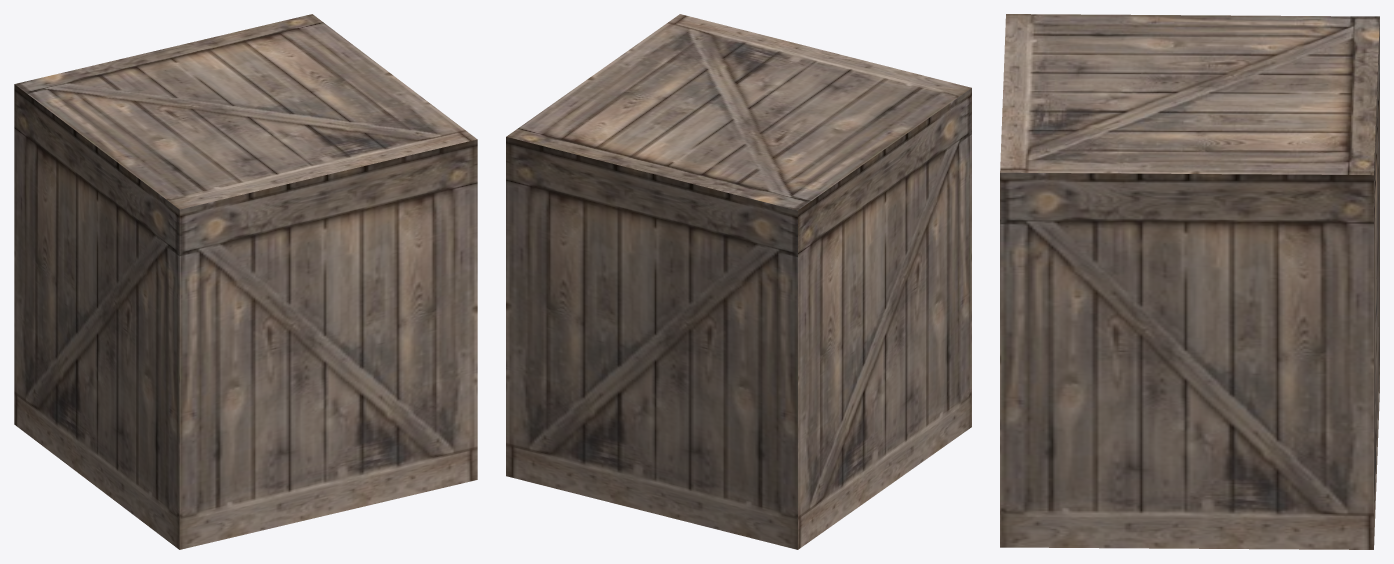
The picture shows the model from 3 angles, left to right: view 1: azimuth 30°, elevation 25°; view 2: azimuth 150°, elevation 25°; view 3: azimuth 270°, elevation 25°; orthographic projection. The views are drawn at different scales.
Parts seen in each view (by area): view 1: C002_Boxs_08_0; view 2: C002_Boxs_08_0; view 3: C002_Boxs_08_0.
Part boxes in pixels (bbox=[...]): C002_Boxs_08_0: bbox=[14, 14, 477, 549]; C002_Boxs_08_0: bbox=[506, 14, 971, 549]; C002_Boxs_08_0: bbox=[1000, 14, 1379, 549].
Size of the model in its own units: 1.2 by 1.3 by 1.19.
1 material, 1 textured.
